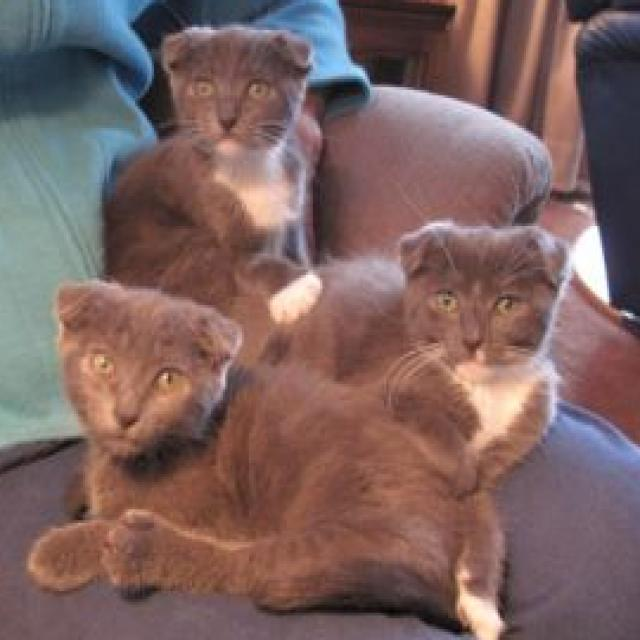Scottish Fold: (23, 276, 460, 619), (254, 214, 577, 452), (100, 23, 323, 318)
